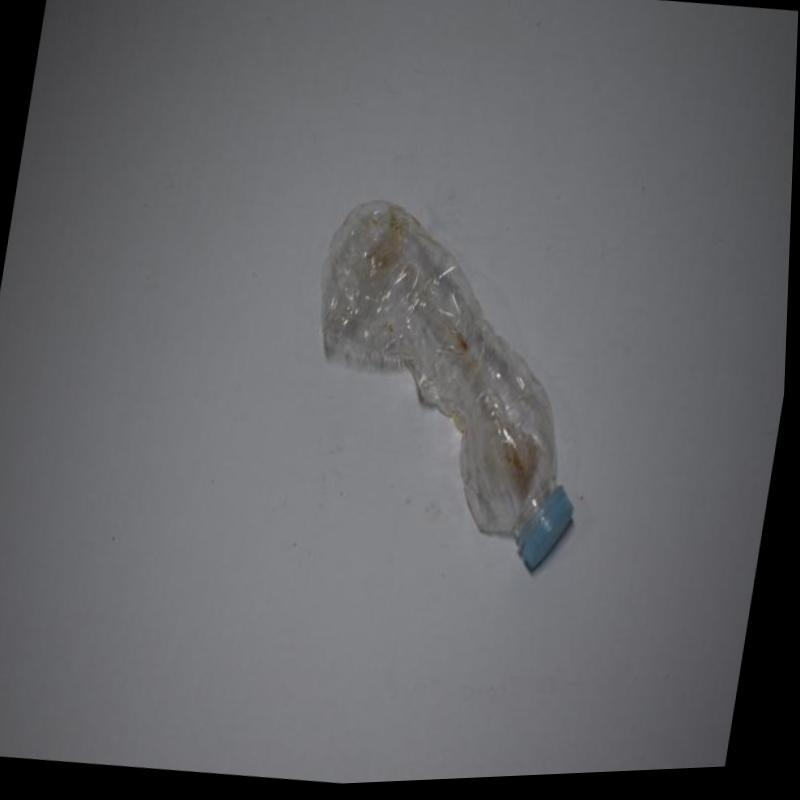botella: (281, 186, 625, 590)
